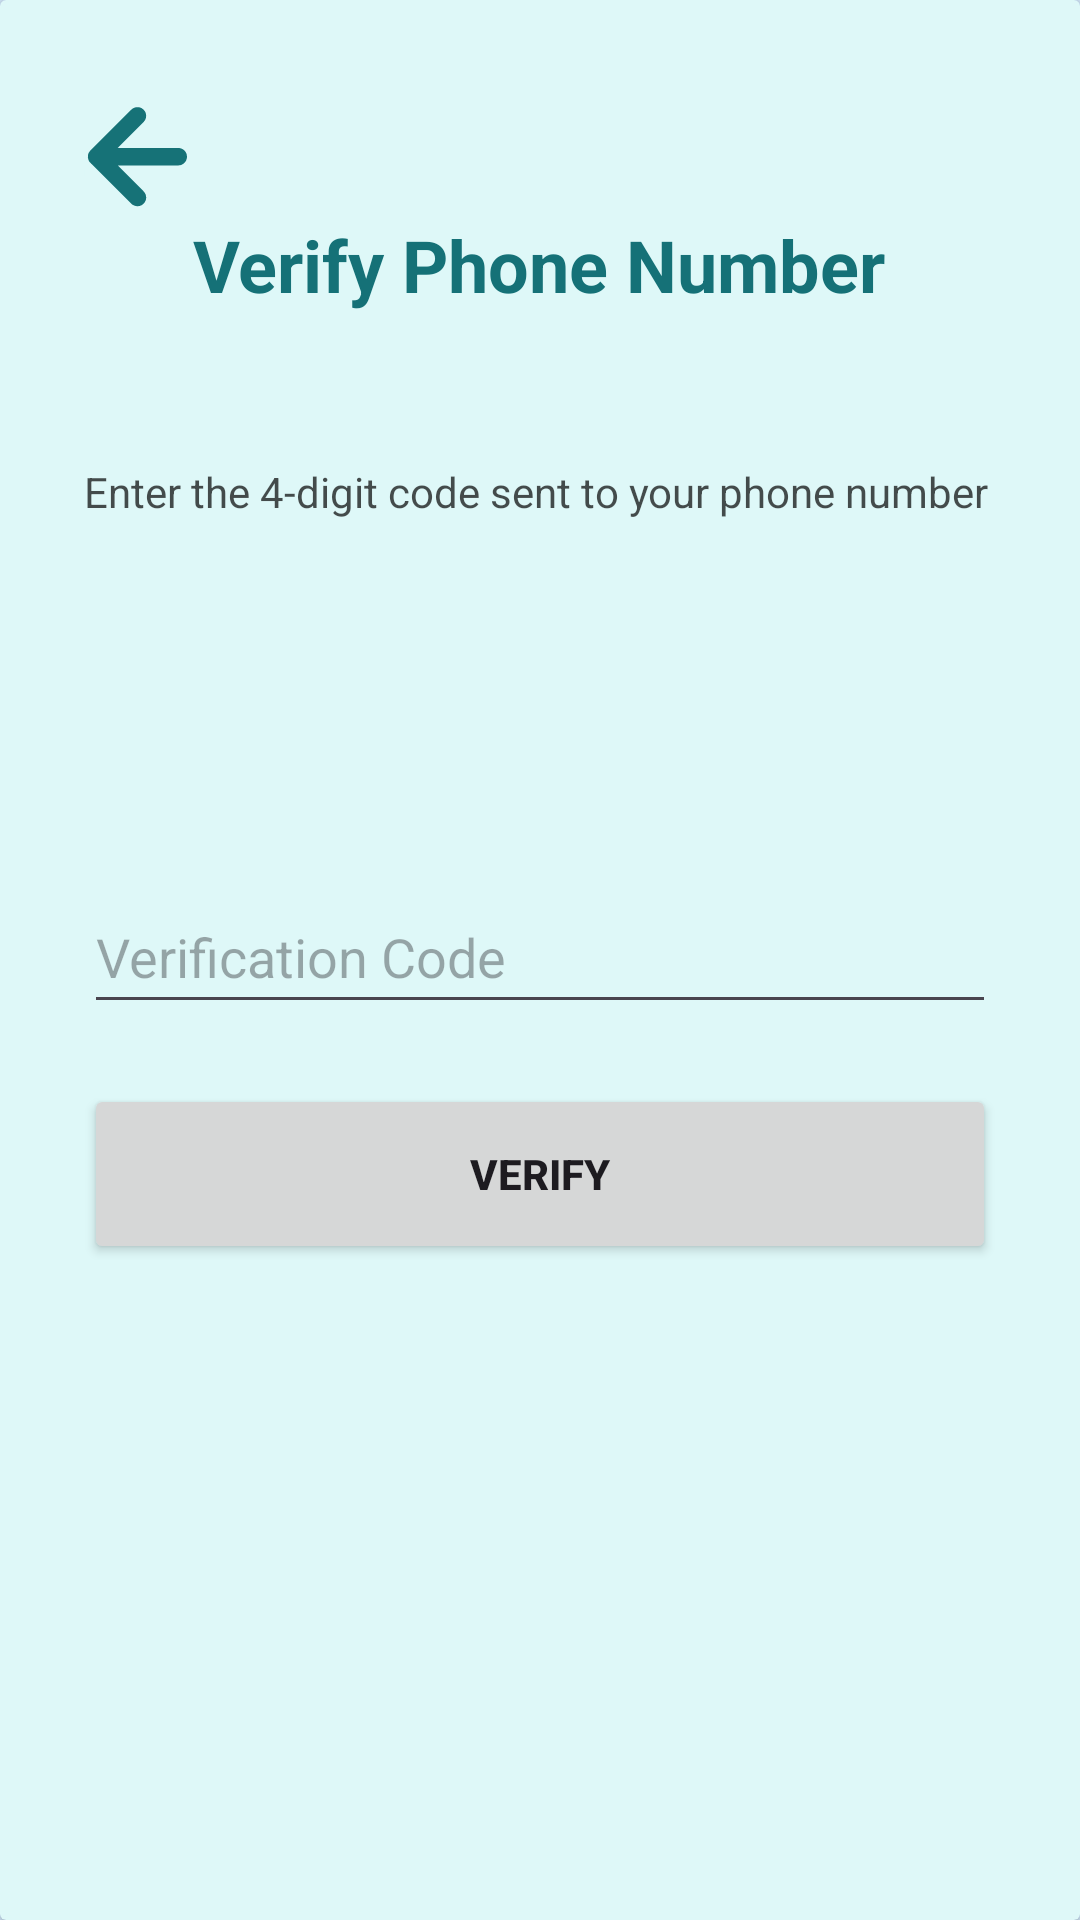

Icons on this 1080*1920 Android screen, each with its box as (x1, y1, x2, y2):
back: (88, 107, 187, 207)
